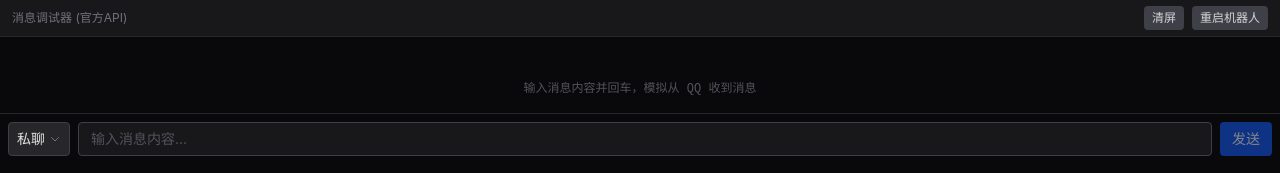
Test: ConsolePanel - 官方 API 消息调试器 › IPC 抛异常时显示错误前缀
The width and height of the screenshot is (1280, 173).
Type "x" into the field named "测试消息输入框".
click(645, 139); type("x")  # box [78,122,1212,156]
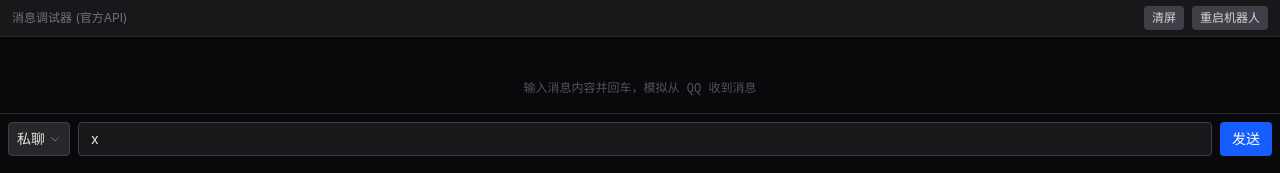
Click the button "发送".
click(1246, 139)  # box [1220,122,1272,156]
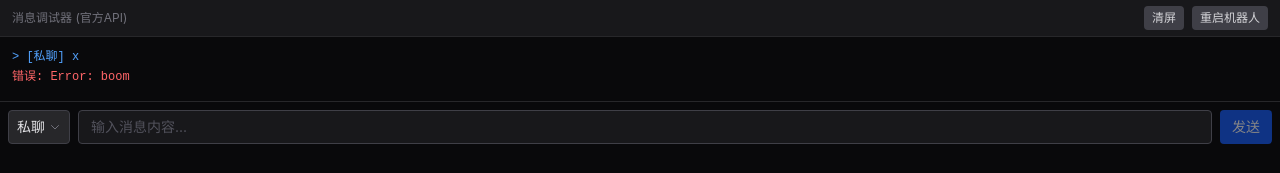
Expected: the text "错误: Error: boom" is shown, [12,70,130,84]
